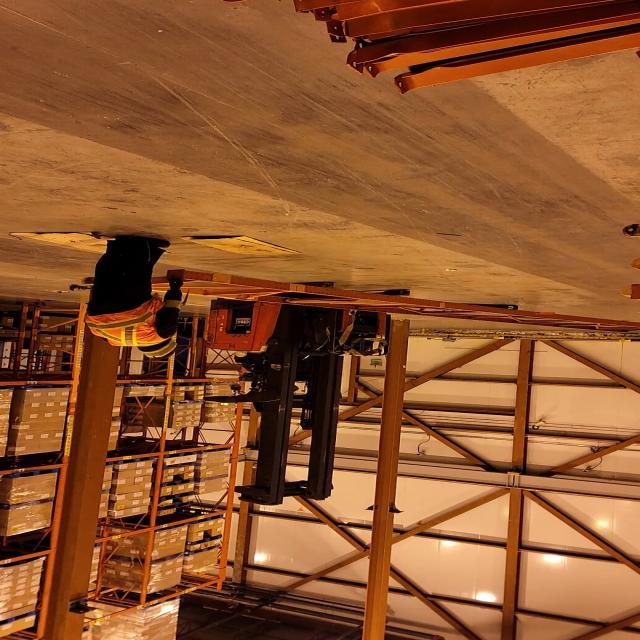forklift: (201, 271, 414, 498)
human: (77, 228, 192, 364), (225, 340, 303, 390)
objectofinterest: (68, 271, 640, 338), (4, 229, 172, 259), (178, 232, 304, 260)
